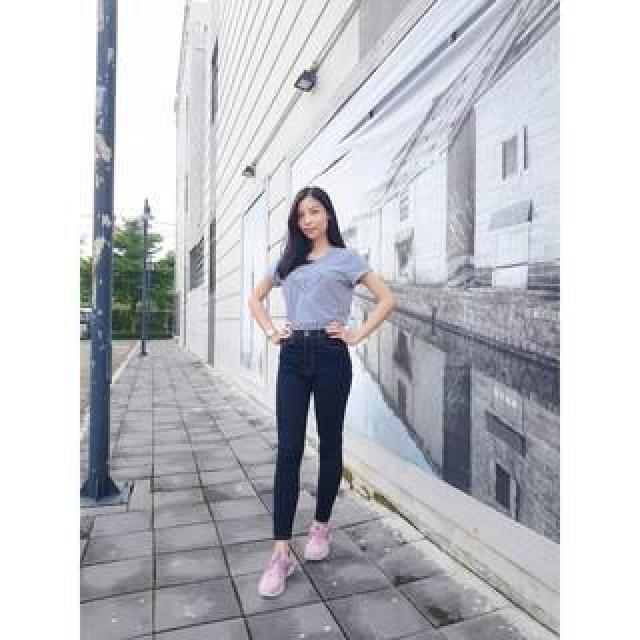Tshirt: (270, 245, 374, 339)
pants: (273, 325, 355, 545)
